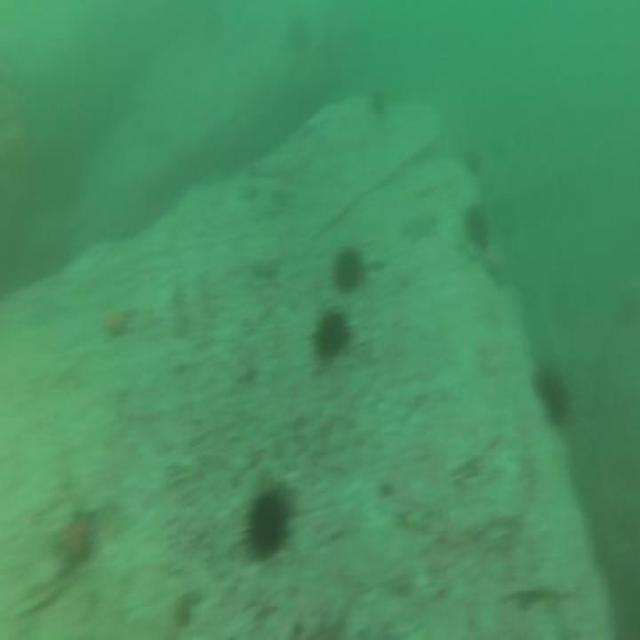echinus: (240, 479, 294, 567), (308, 302, 353, 368), (532, 361, 572, 432), (462, 195, 496, 258), (328, 243, 366, 299), (284, 9, 308, 57), (365, 82, 391, 120), (457, 144, 483, 178)
starfish: (46, 498, 106, 586), (99, 302, 137, 344)
